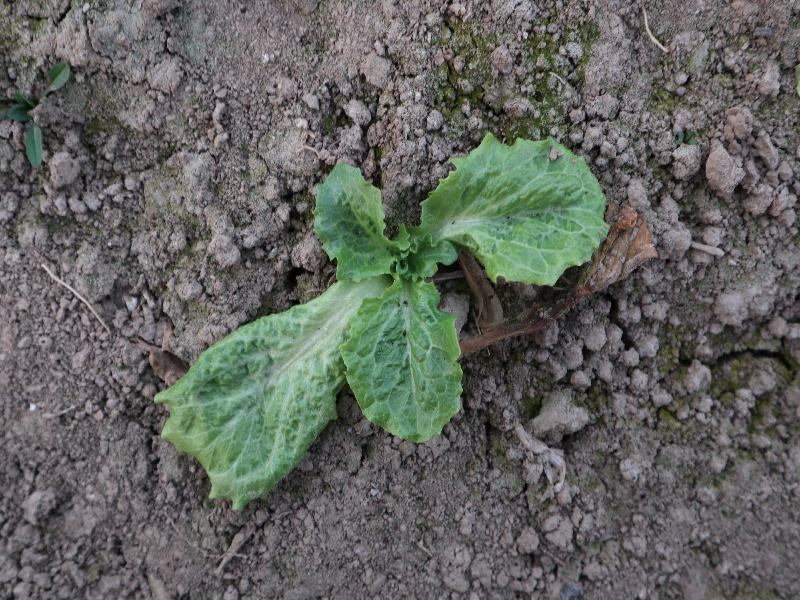lettuce: (152, 130, 610, 511)
